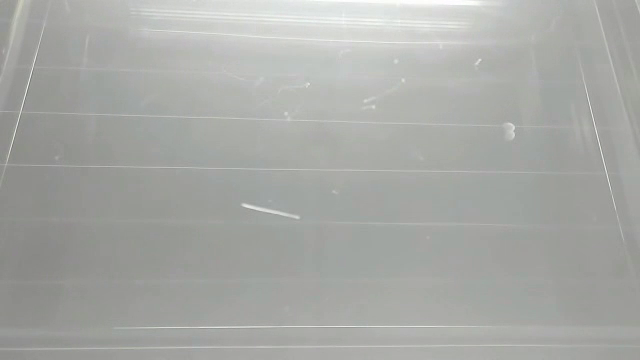alpha: (237, 198, 303, 224), (500, 120, 519, 144)
